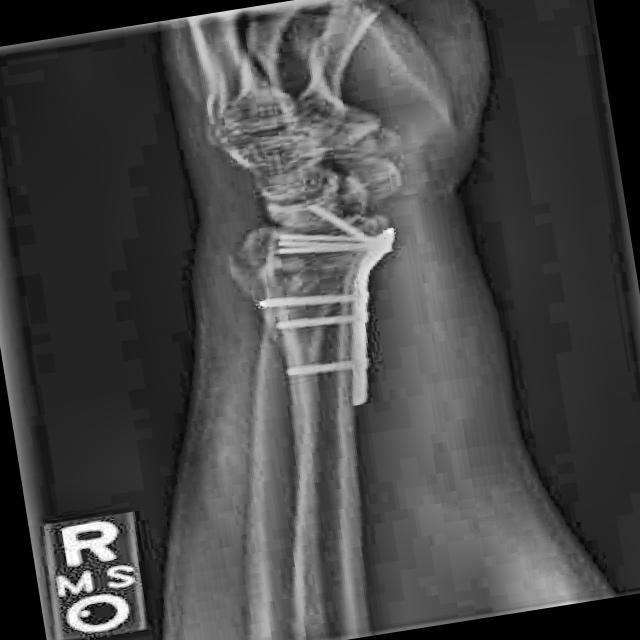fingers positive: (189, 214, 456, 302)
